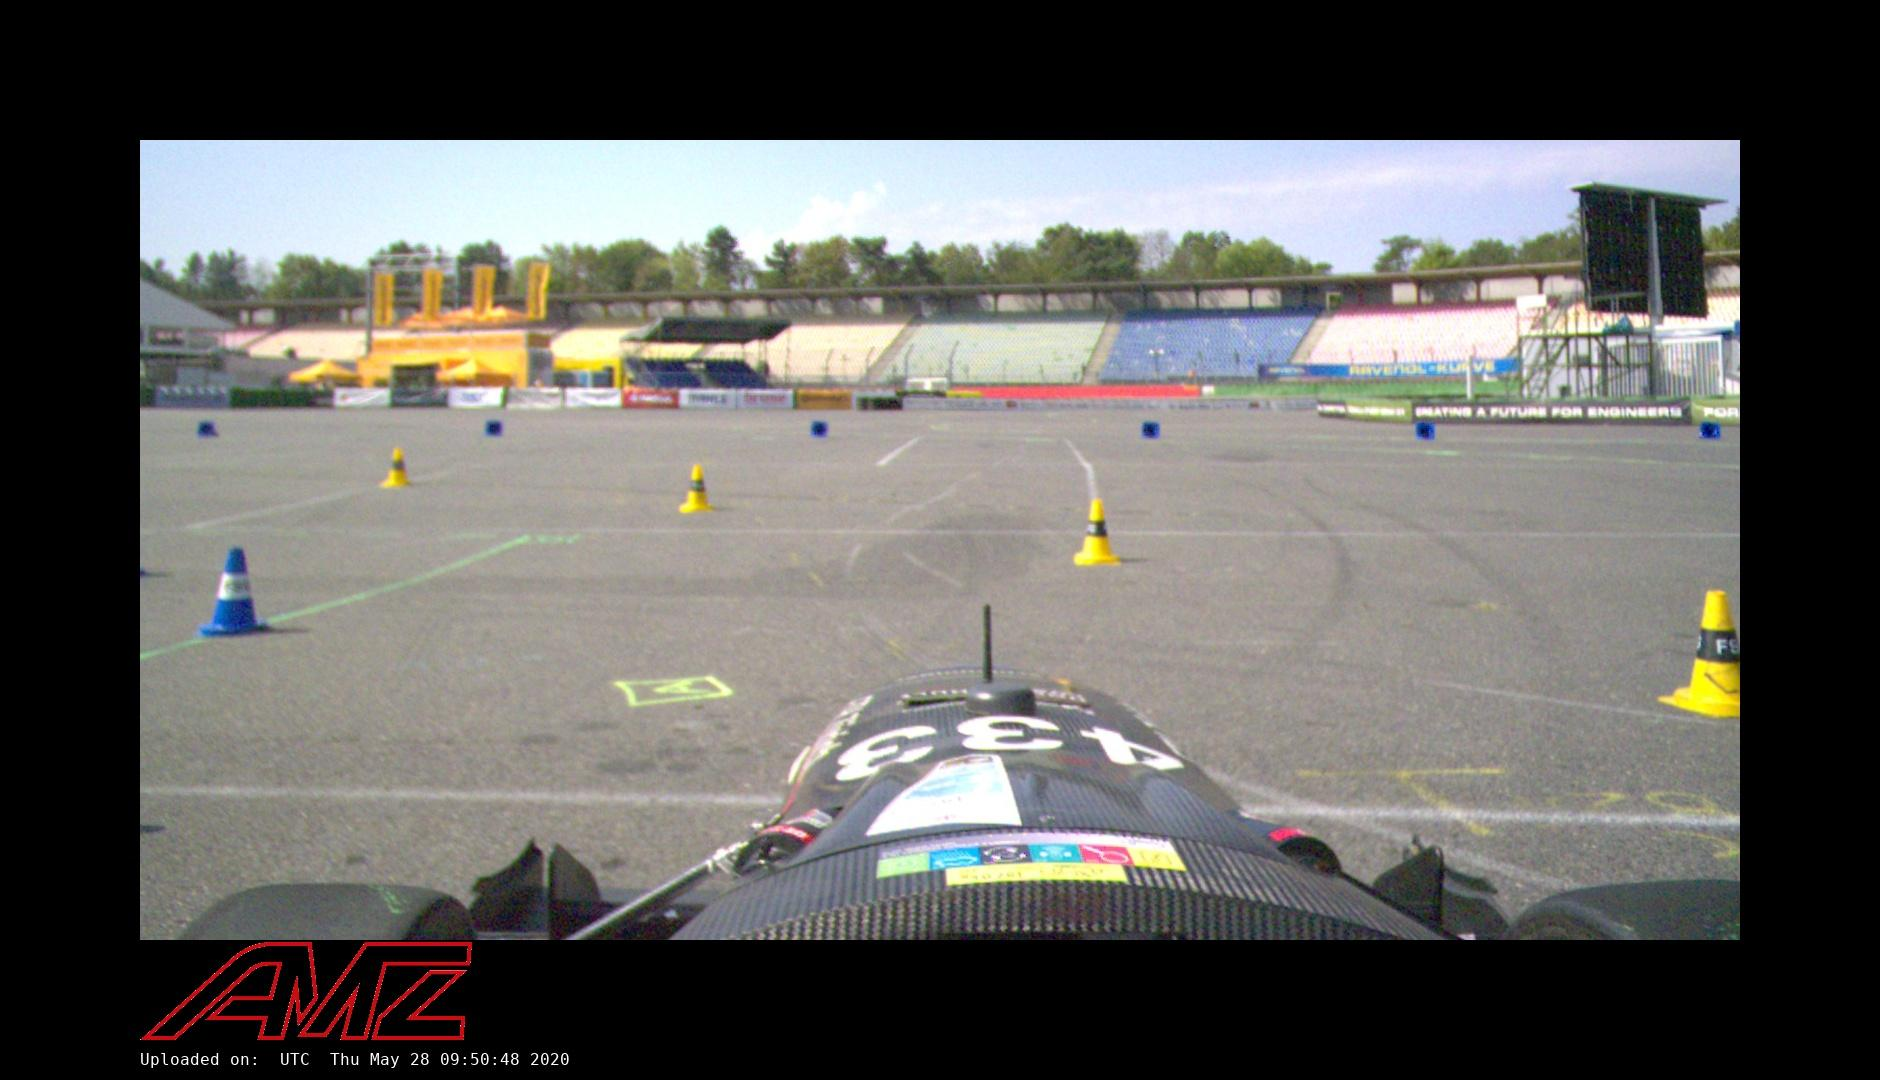blue_cone: (198, 547, 272, 638), (196, 420, 220, 439), (1697, 421, 1722, 439)
yellow_cone: (1656, 588, 1739, 720), (1073, 499, 1122, 568), (677, 464, 715, 517), (379, 446, 414, 491)
